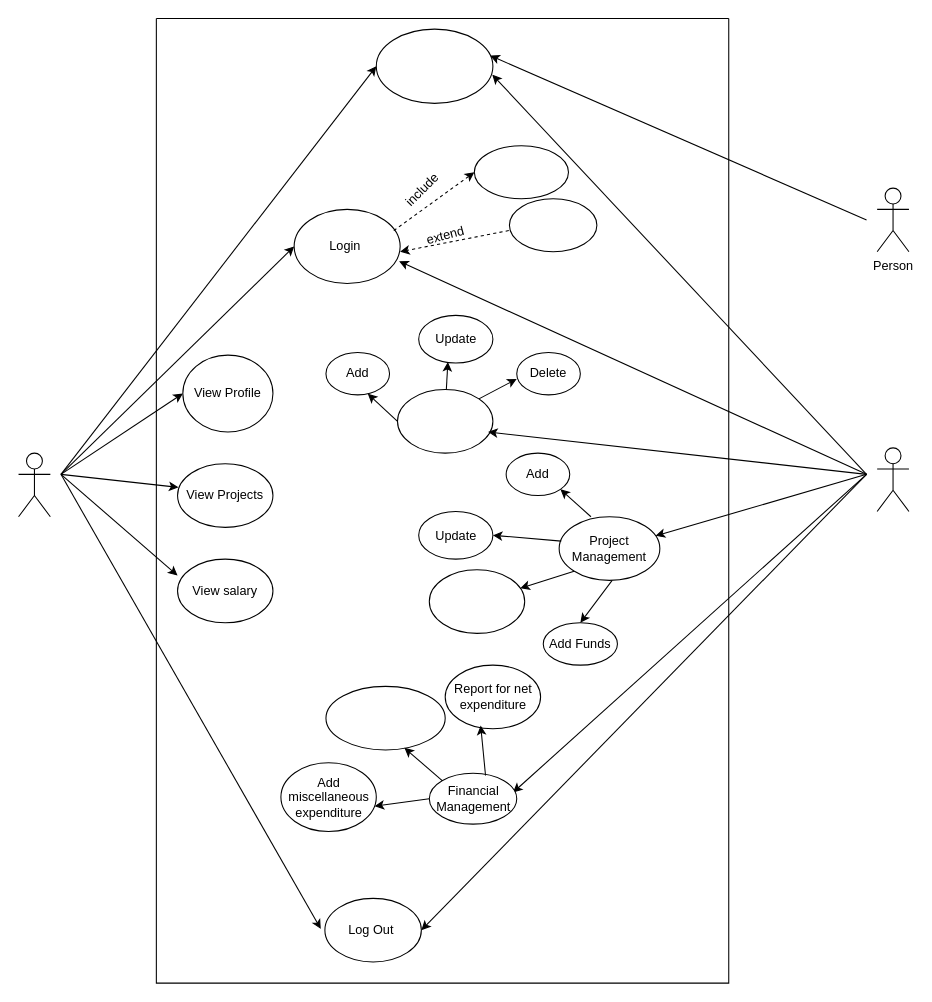
This 932x1002 diagram has some shape labels left out. Here are the shapes that lost their labels. From the top down, the centre of each, then its label:
At point (434, 65): "View Website".
At point (520, 172): "Authentication".
At point (552, 225): "Display error".
At point (444, 420): "Employee Management".
At point (33, 484): "User".
At point (892, 479): "Admin".
At point (476, 601): "Add employee to project".
At point (385, 717): "Add sales".
